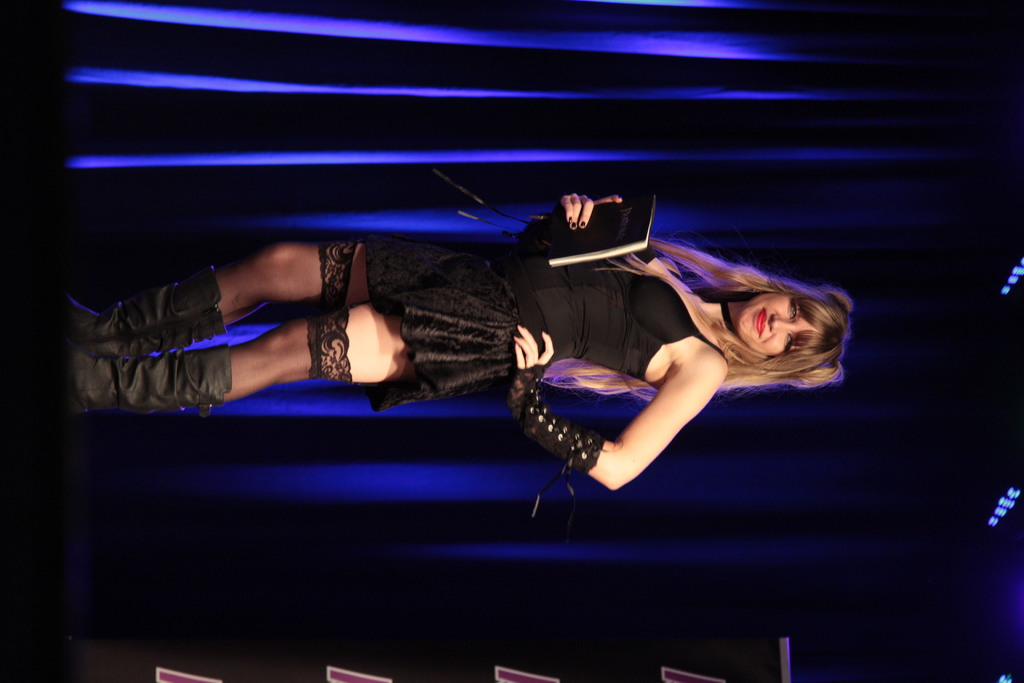face: (736, 291, 827, 356)
